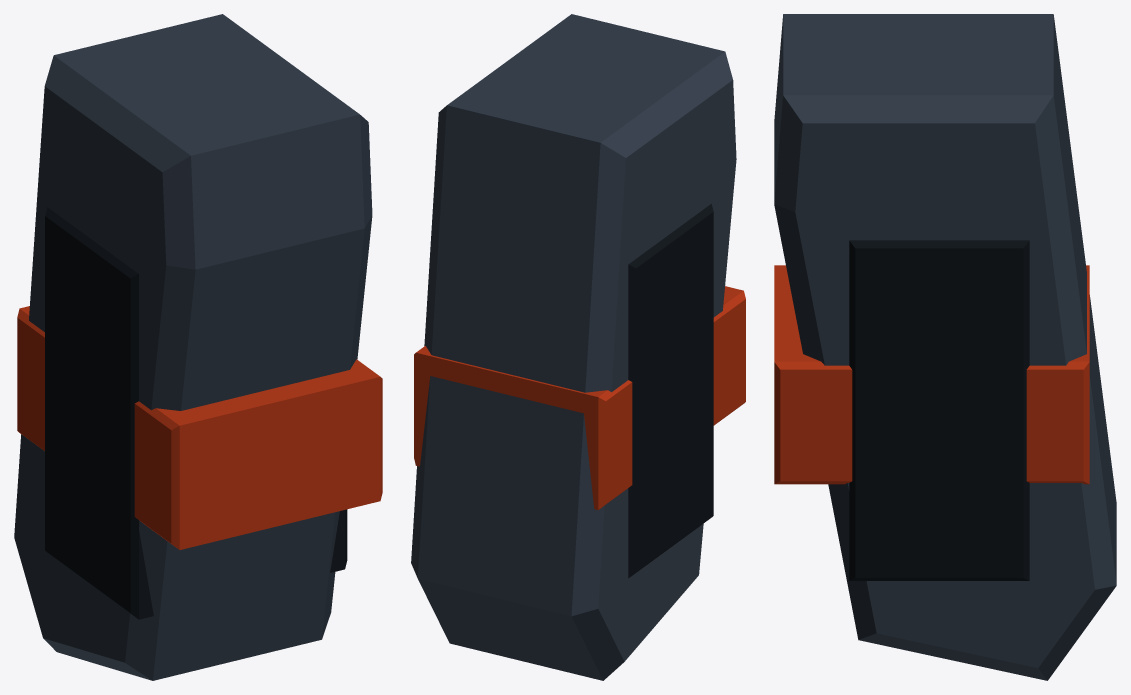
File: ScrapSonic_Grip.obj
3 renders of one model, left to right at view 1: azimuth 30°, elevation 25°; view 2: azimuth 150°, elevation 25°; view 3: azimuth 270°, elevation 25°, orthographic. The views are drawn at different scales.
Visible parts, largest first — view 1: Housing, Tape, Rubber; view 2: Housing, Rubber, Tape; view 3: Housing, Rubber, Tape.
Boxes of the visible parts, x1,y1,x2,y2 form: Housing: (14,14,372,680); Tape: (17,306,382,549); Rubber: (45,207,347,619); Housing: (411,14,736,680); Rubber: (628,204,713,578); Tape: (414,286,745,510); Housing: (774,14,1116,680); Rubber: (849,240,1029,580); Tape: (774,265,1089,484).
Size of the model in its own units: 0.082 by 0.215 by 0.114.
